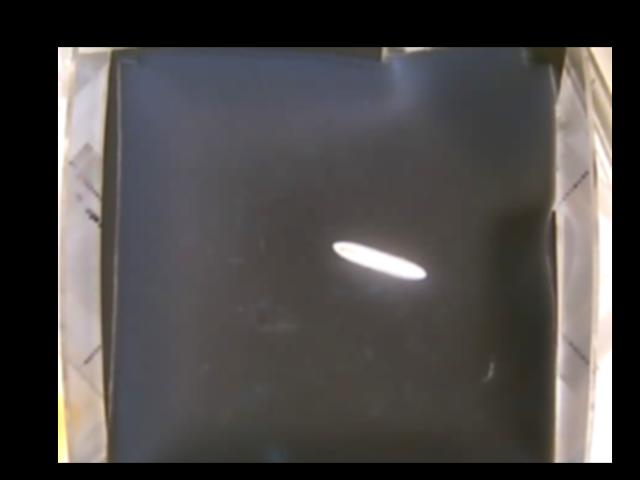Pebble: (329, 241, 429, 280)
